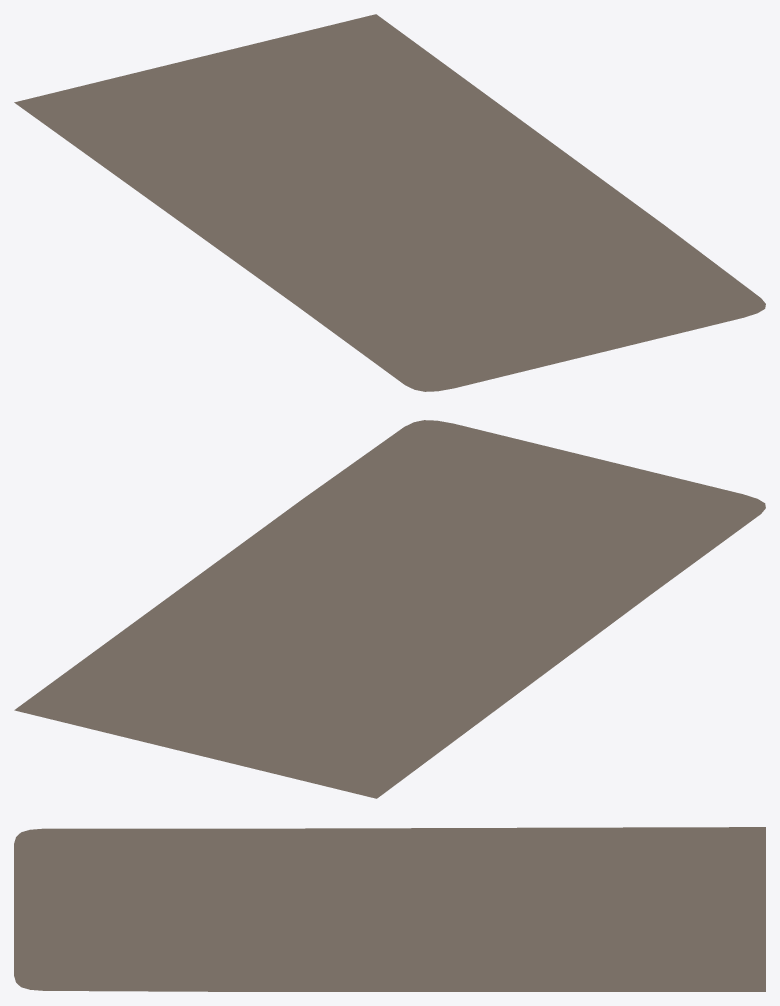
The model's file is Zone1.fbx.
3 renders of one model, top to bottom at view 1: azimuth 30°, elevation 25°; view 2: azimuth 150°, elevation 25°; view 3: azimuth 270°, elevation 25°, orthographic. The views are drawn at different scales.
Parts seen in each view (by area): view 1: GrassZone3__7__001__1_; view 2: GrassZone3__7__001__1_; view 3: GrassZone3__7__001__1_.
Boxes of the visible parts, x1,y1,x2,y2 form: GrassZone3__7__001__1_: (14, 14, 765, 391); GrassZone3__7__001__1_: (14, 420, 765, 798); GrassZone3__7__001__1_: (14, 827, 765, 991).
Bounding box in the file's own units: 10845 × 8.64e-07 × 20901.
